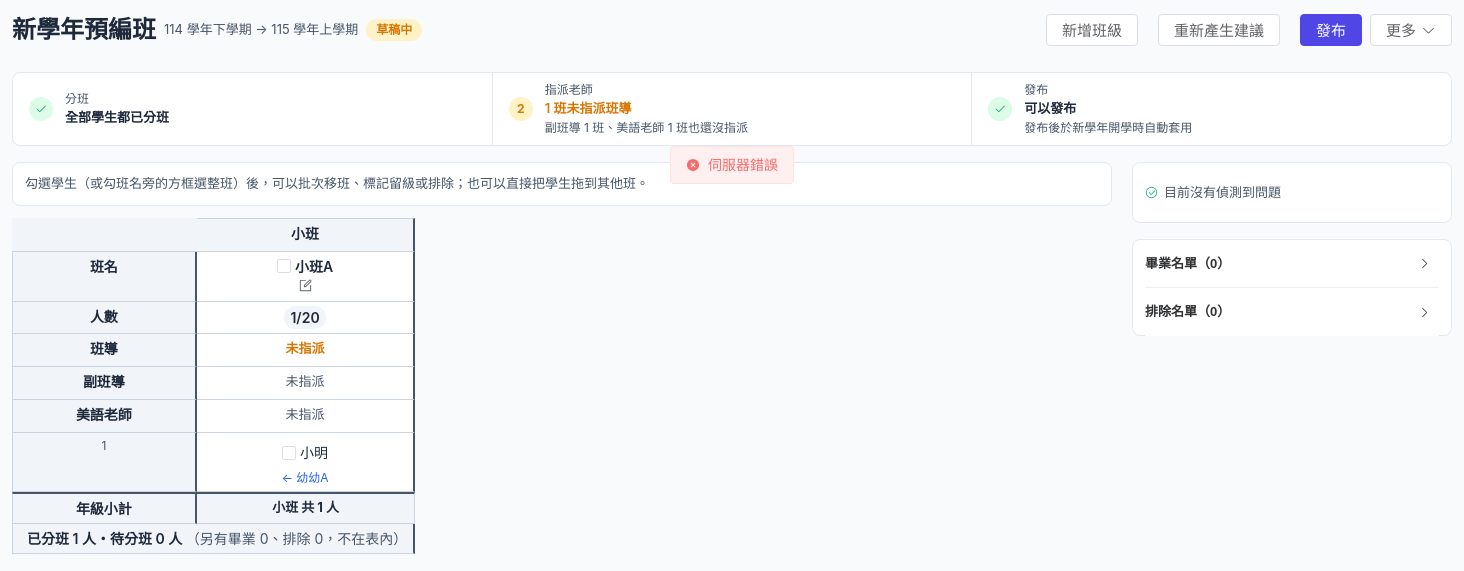
it: YearPlanWorkspaceView › mutation in-flight（loading=true）時五顆動作鈕與批次工具列全部鎖定，防雙擊偽版本衝突
The image size is (1464, 571).
Expected: the button with class "btn-publish" is enabled, 1300,14 -> 1362,46
Expected: the button with class "btn-regenerate" is enabled, 1158,14 -> 1280,46
// 勾一位學生後以 never-resolving promise 模擬 bulk mutation in-flight
Click the 1st checkbox: (284,266) 277,259 -> 291,273
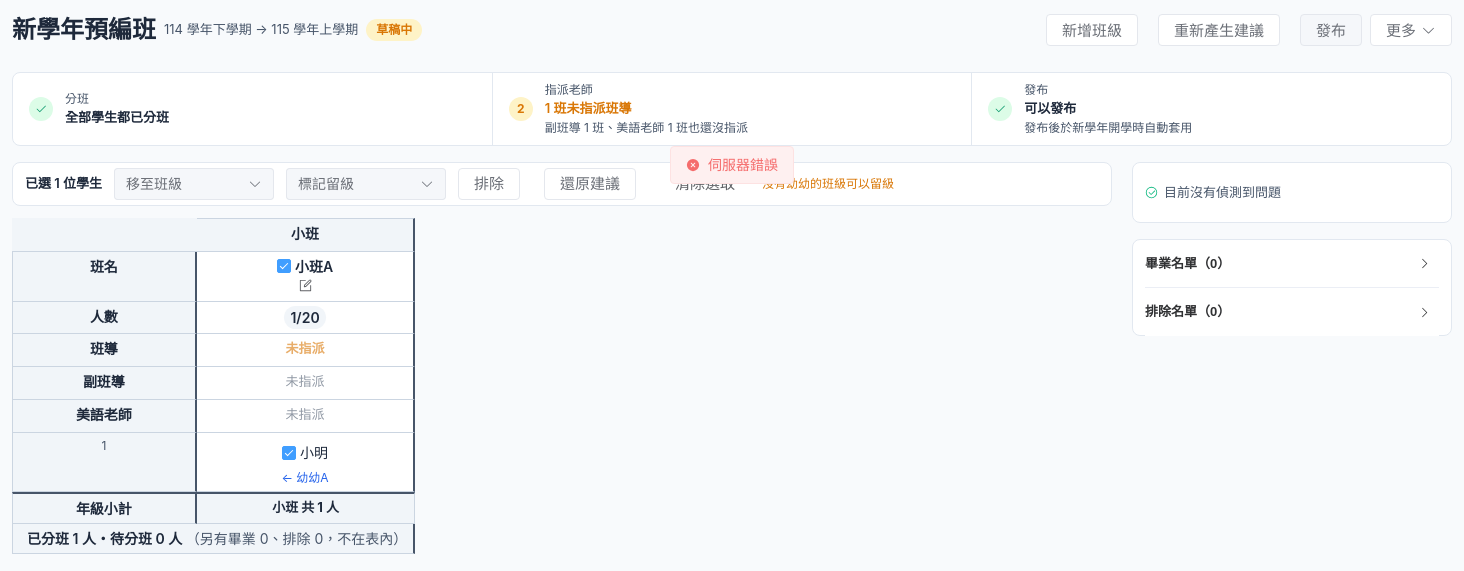
Expected: the button with class "btn-add-class" is disabled, 1046,14 -> 1138,46
Expected: the button with class "btn-publish" is disabled, 1300,14 -> 1362,46
